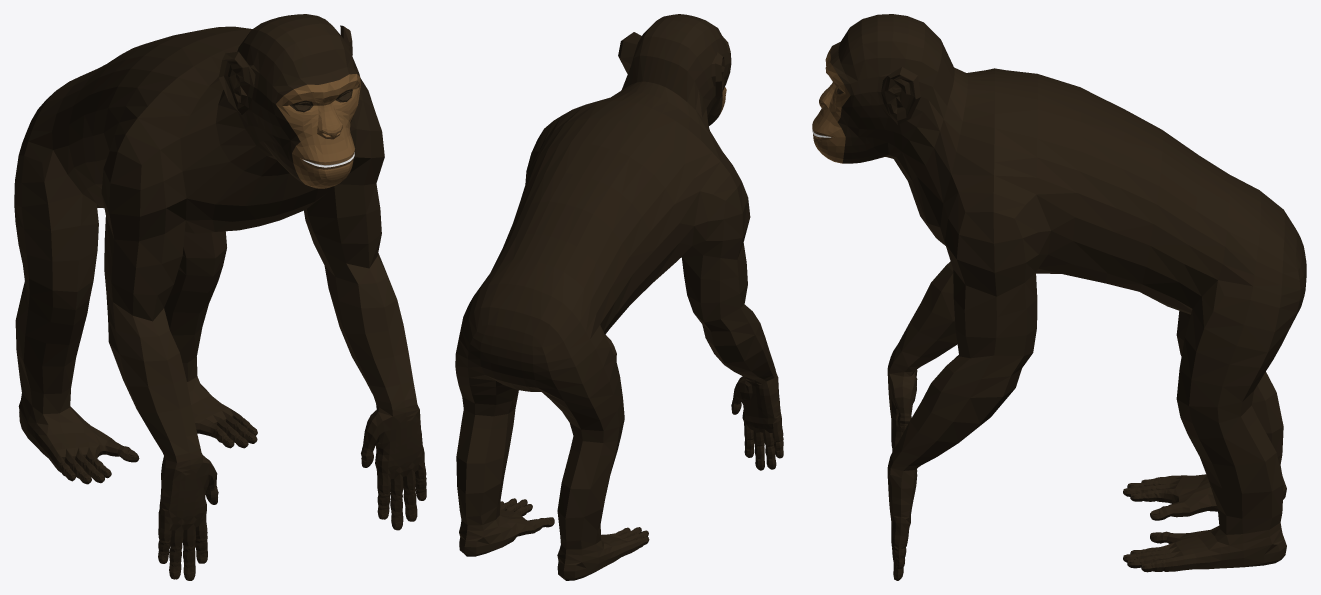
Rendered from monkey_monkey.obj.
3 views of the same model, side by side, from view 1: azimuth 30°, elevation 25°; view 2: azimuth 150°, elevation 25°; view 3: azimuth 270°, elevation 25° (orthographic). The views are drawn at different scales.
Bounding box in the file's own units: 0.4591 × 0.8651 × 0.7598.
